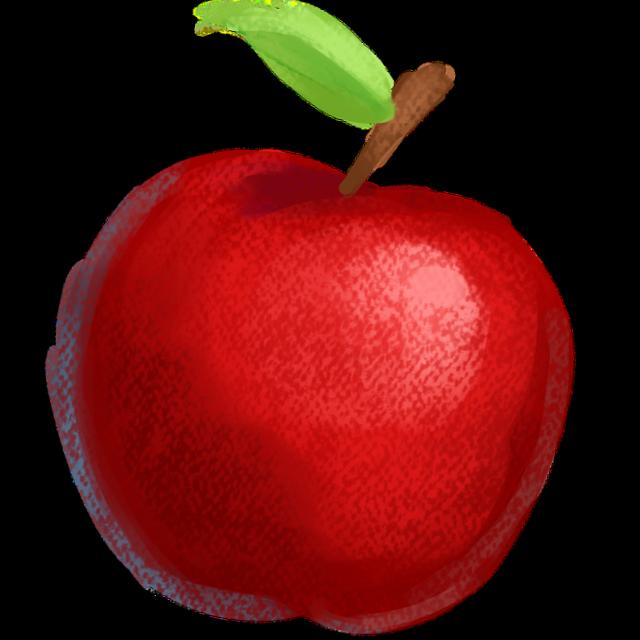apple: (0, 89, 619, 640)
